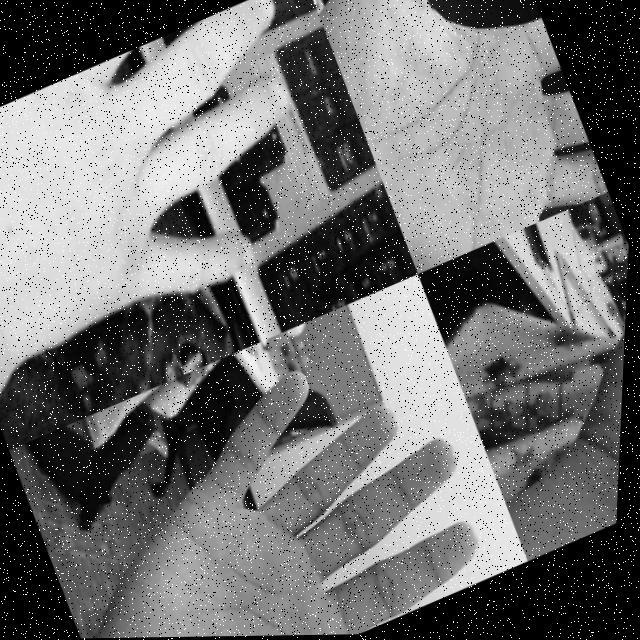no-gloves: (0, 0, 382, 420), (22, 318, 516, 640), (292, 0, 617, 276), (434, 203, 632, 554)
